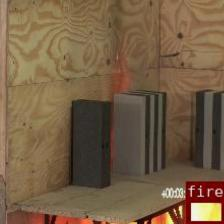fire: (185, 197, 224, 224)
